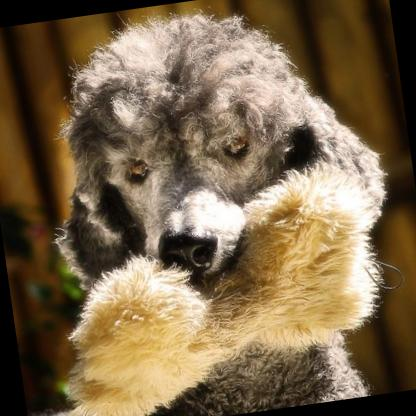toy_poodle: (16, 0, 415, 416)
